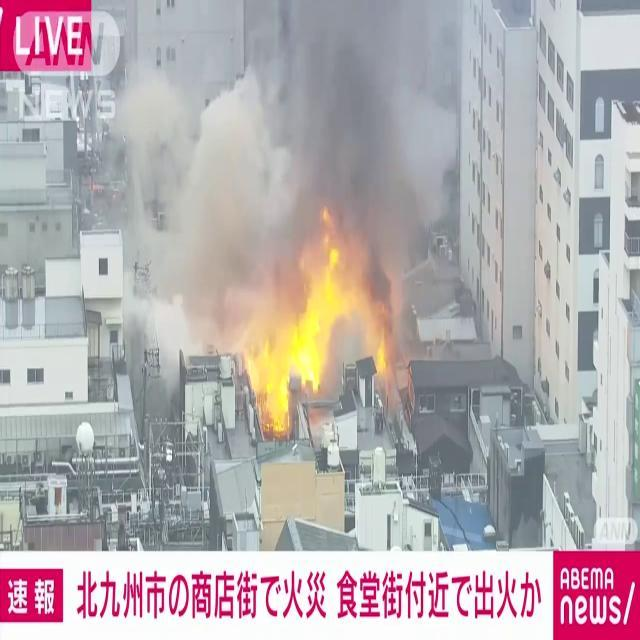Fire: (242, 218, 392, 428)
Smoke: (116, 0, 458, 309)
